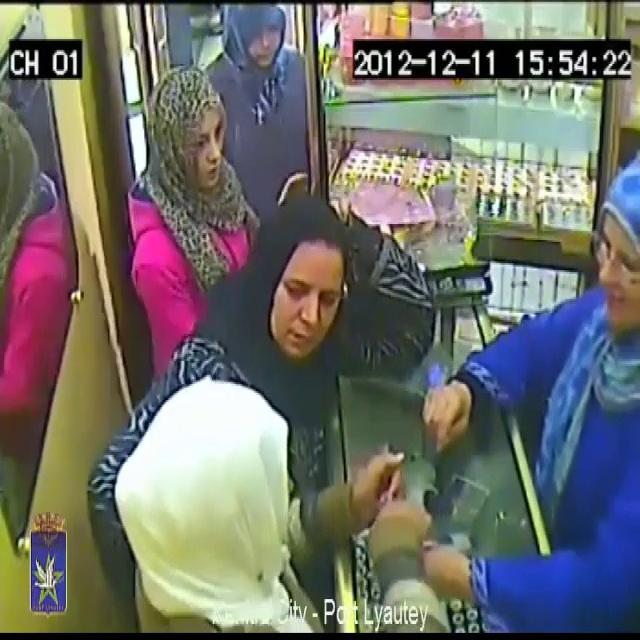normal: (456, 130, 640, 640), (100, 358, 353, 638), (130, 14, 250, 279), (246, 195, 378, 412), (223, 0, 323, 188)
